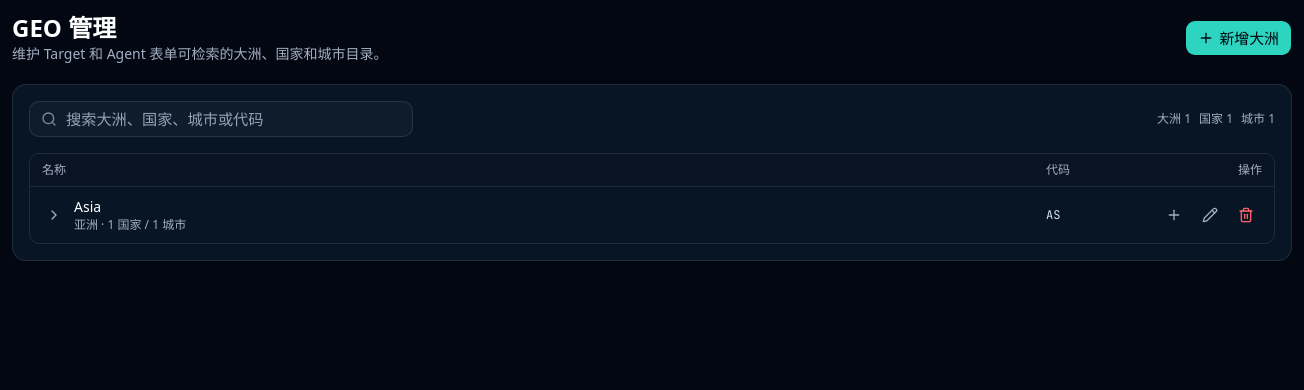
Test: GeoManagementPage › renders and expands the geo catalog as a continent-country-city tree
Click the button "Asia" at (88, 207), box left=74, top=197, right=101, bottom=217
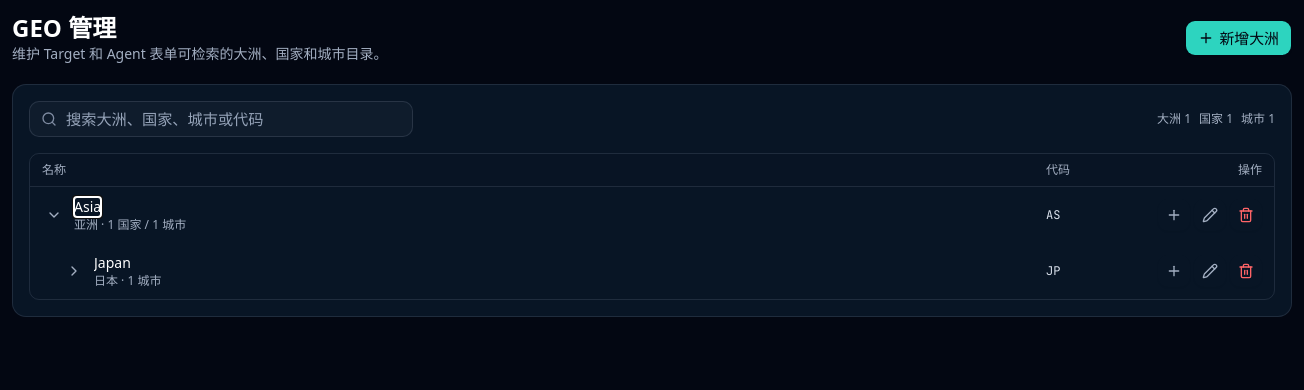
Click the button "Japan" at (112, 263), box left=94, top=253, right=131, bottom=273
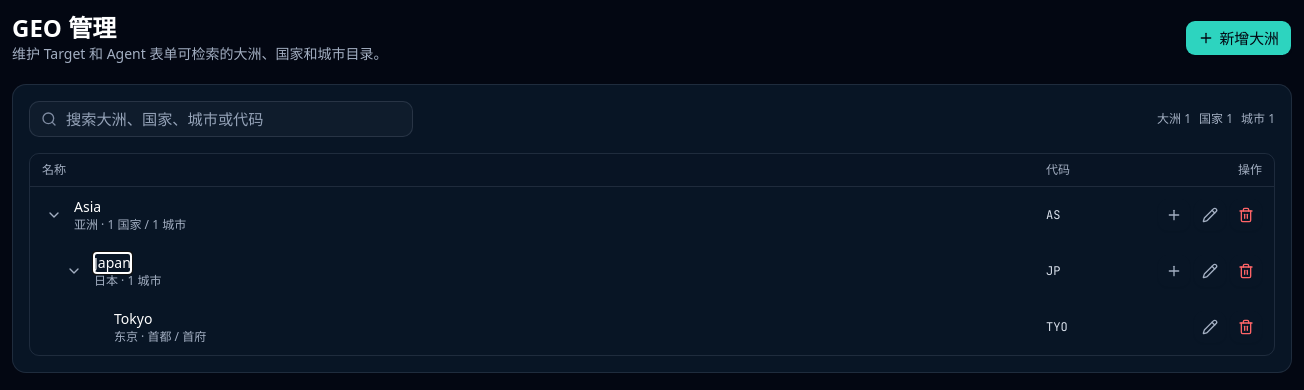
Expected: the text "亚洲 · 1 国家 / 1 城市" is shown, left=74, top=217, right=186, bottom=233
Now the button "Tokyo" is shown, box left=114, top=309, right=152, bottom=329
Now the text "TYO" is shown, box left=1046, top=319, right=1068, bottom=335
